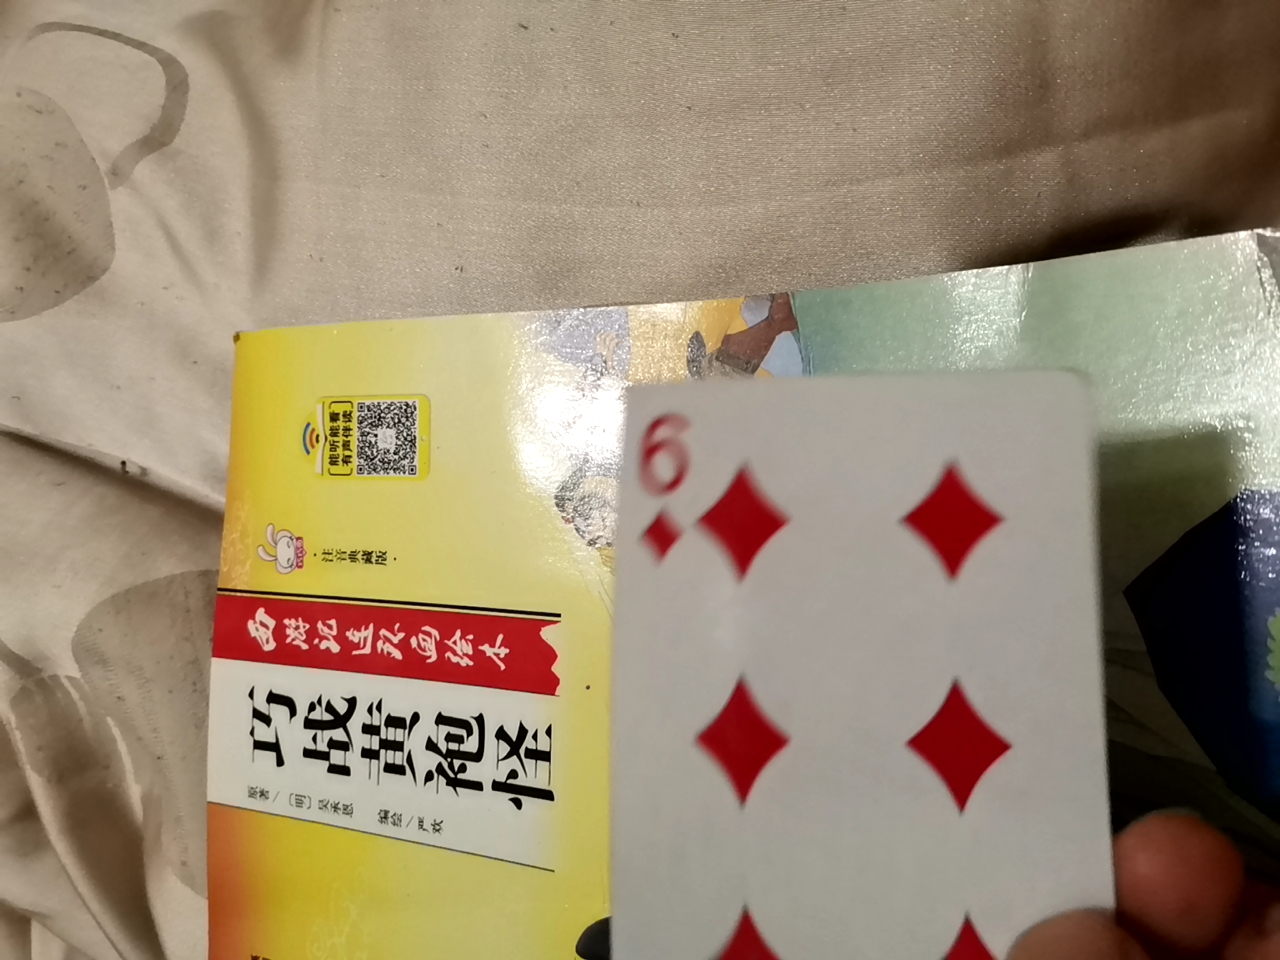fk 6: (593, 343, 1140, 951)
